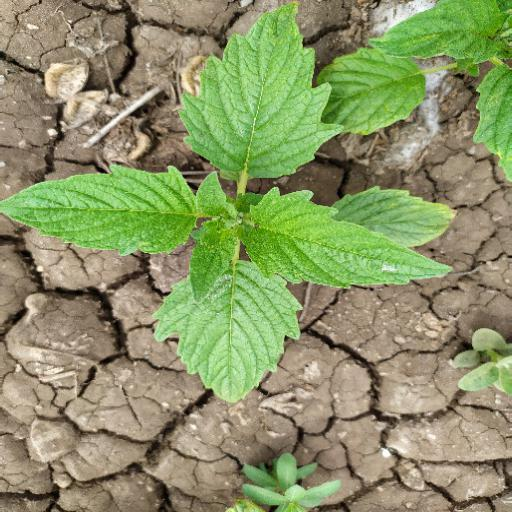crop: (7, 17, 454, 400)
